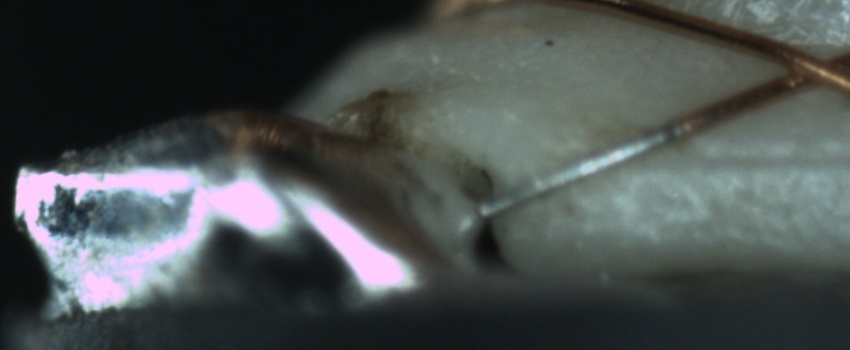CL: (760, 39, 846, 99)
DL: (637, 129, 848, 200)
TS: (477, 123, 681, 218)
